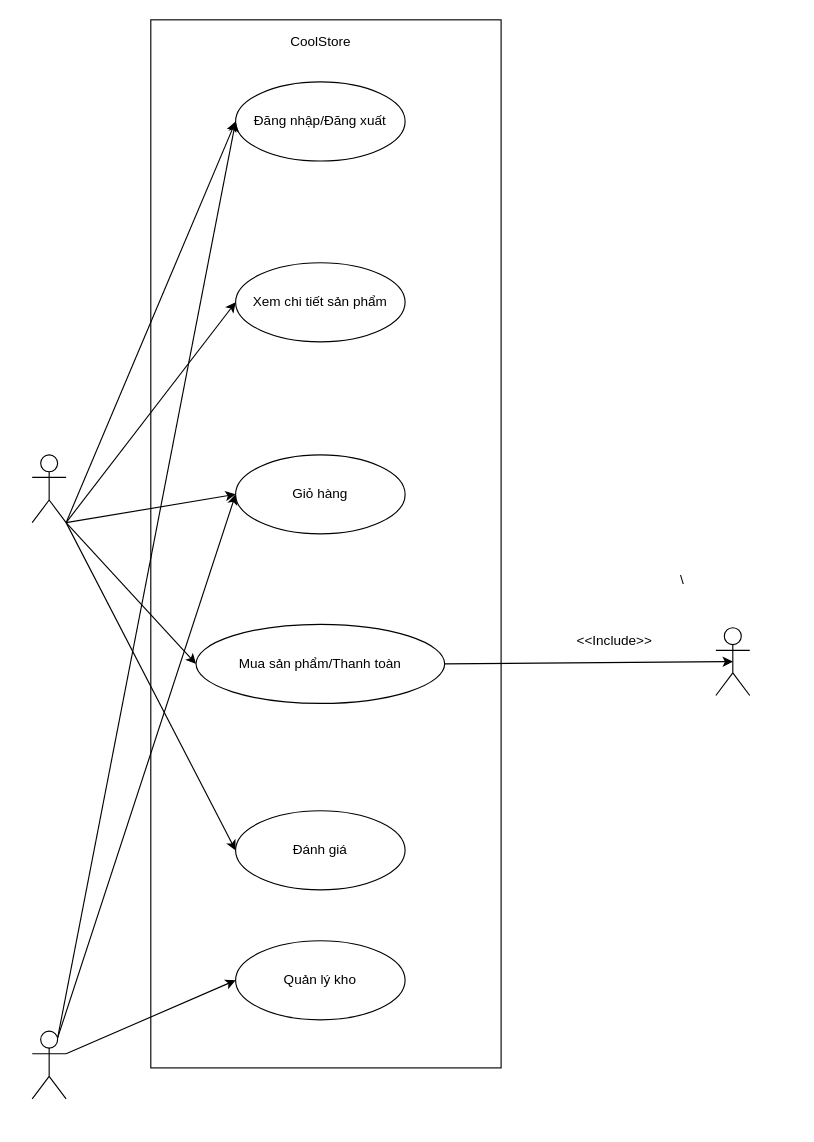
Some shapes in this 814 by 1142 pixel diagram are drawn without their labels. Here are the shapes that lost their labels. From the top down, the centre of each, then its label:
At point (48, 488): "Customer".
At point (732, 661): "Hệ thống thanh toán".
At point (48, 1064): "Admin".
